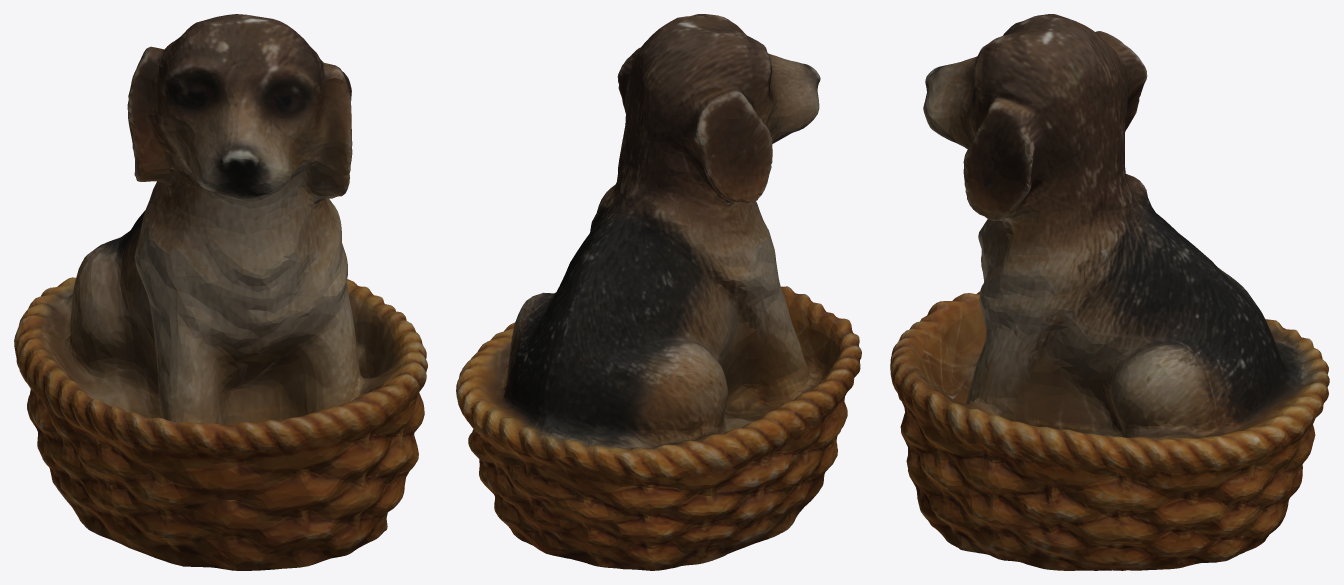
File: Puppy.fbx
3 views of the same model, side by side, from view 1: azimuth 30°, elevation 25°; view 2: azimuth 150°, elevation 25°; view 3: azimuth 270°, elevation 25° (orthographic). The views are drawn at different scales.
Visible parts, largest first — view 1: Puppy_in_basket; view 2: Puppy_in_basket; view 3: Puppy_in_basket.
Boxes of the visible parts, box(x1,y1,x2,y2) form: Puppy_in_basket: box(14, 14, 427, 570); Puppy_in_basket: box(456, 14, 861, 570); Puppy_in_basket: box(890, 14, 1329, 570).
Size of the model in its own units: 19.2 by 26.31 by 22.08.
Materials: 2 (1 with a texture image).
